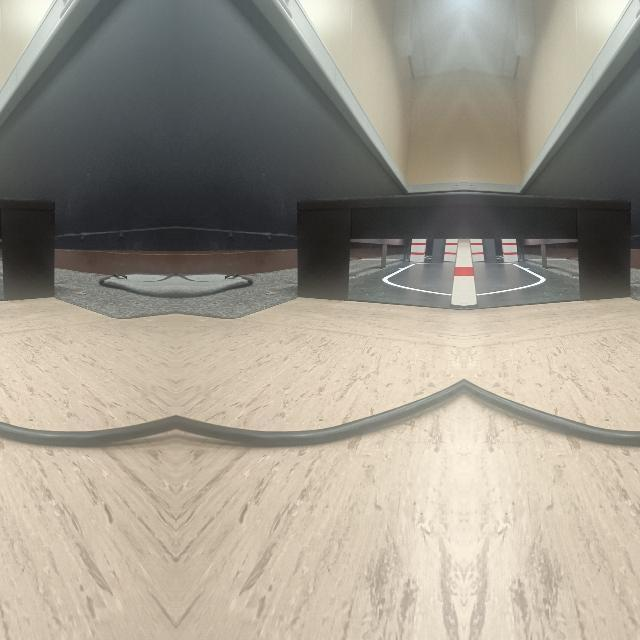obstacle: (176, 381, 464, 445), (296, 195, 464, 298), (464, 195, 630, 298), (463, 381, 640, 445), (0, 381, 173, 445), (0, 194, 53, 297)
